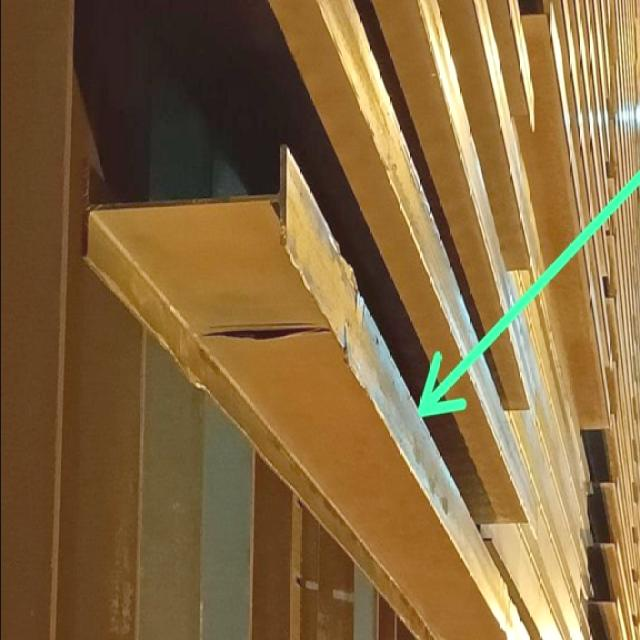defect: (343, 294, 466, 522), (406, 194, 476, 357), (476, 166, 514, 311), (466, 359, 515, 452), (508, 314, 536, 409)
